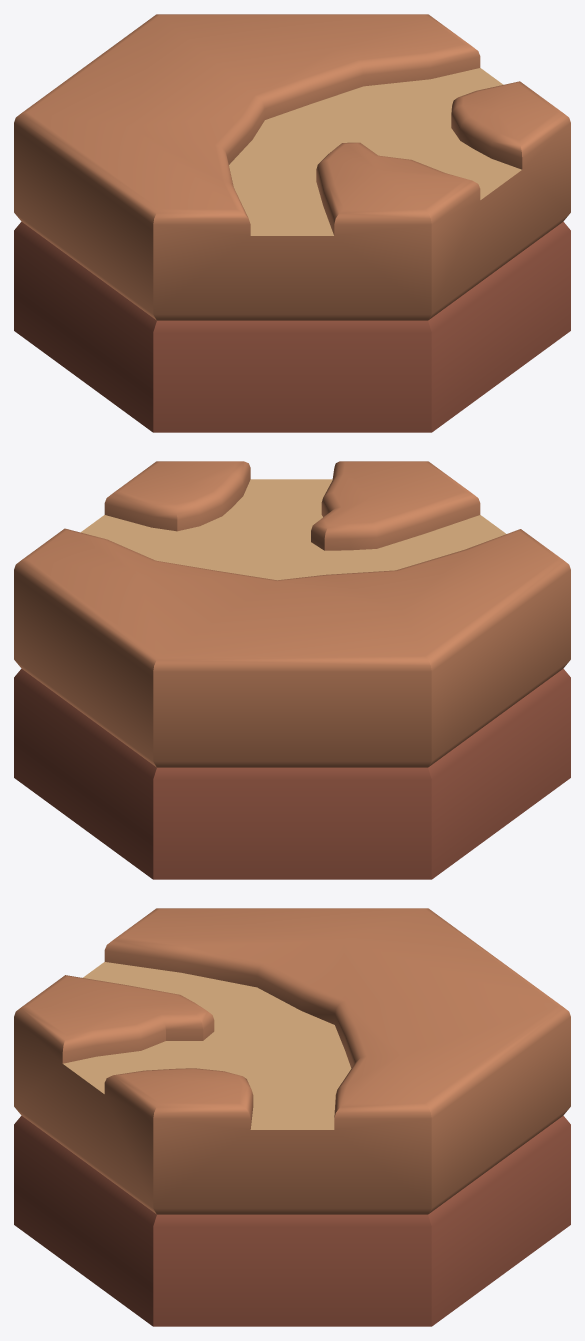
Rendered from hex_rock_roadH_detail.glb.
The picture shows the model from 3 angles, top to bottom: view 1: azimuth 30°, elevation 25°; view 2: azimuth 150°, elevation 25°; view 3: azimuth 270°, elevation 25°; orthographic projection.
Visible parts, largest first — view 1: hex_rock_roadH_detail; view 2: hex_rock_roadH_detail; view 3: hex_rock_roadH_detail.
Boxes of the visible parts, x1=… form: hex_rock_roadH_detail: x1=14, y1=14, x2=570, y2=432; hex_rock_roadH_detail: x1=14, y1=461, x2=570, y2=879; hex_rock_roadH_detail: x1=14, y1=908, x2=570, y2=1326.
Bounding box in the file's own units: 2 × 1 × 2.31.
